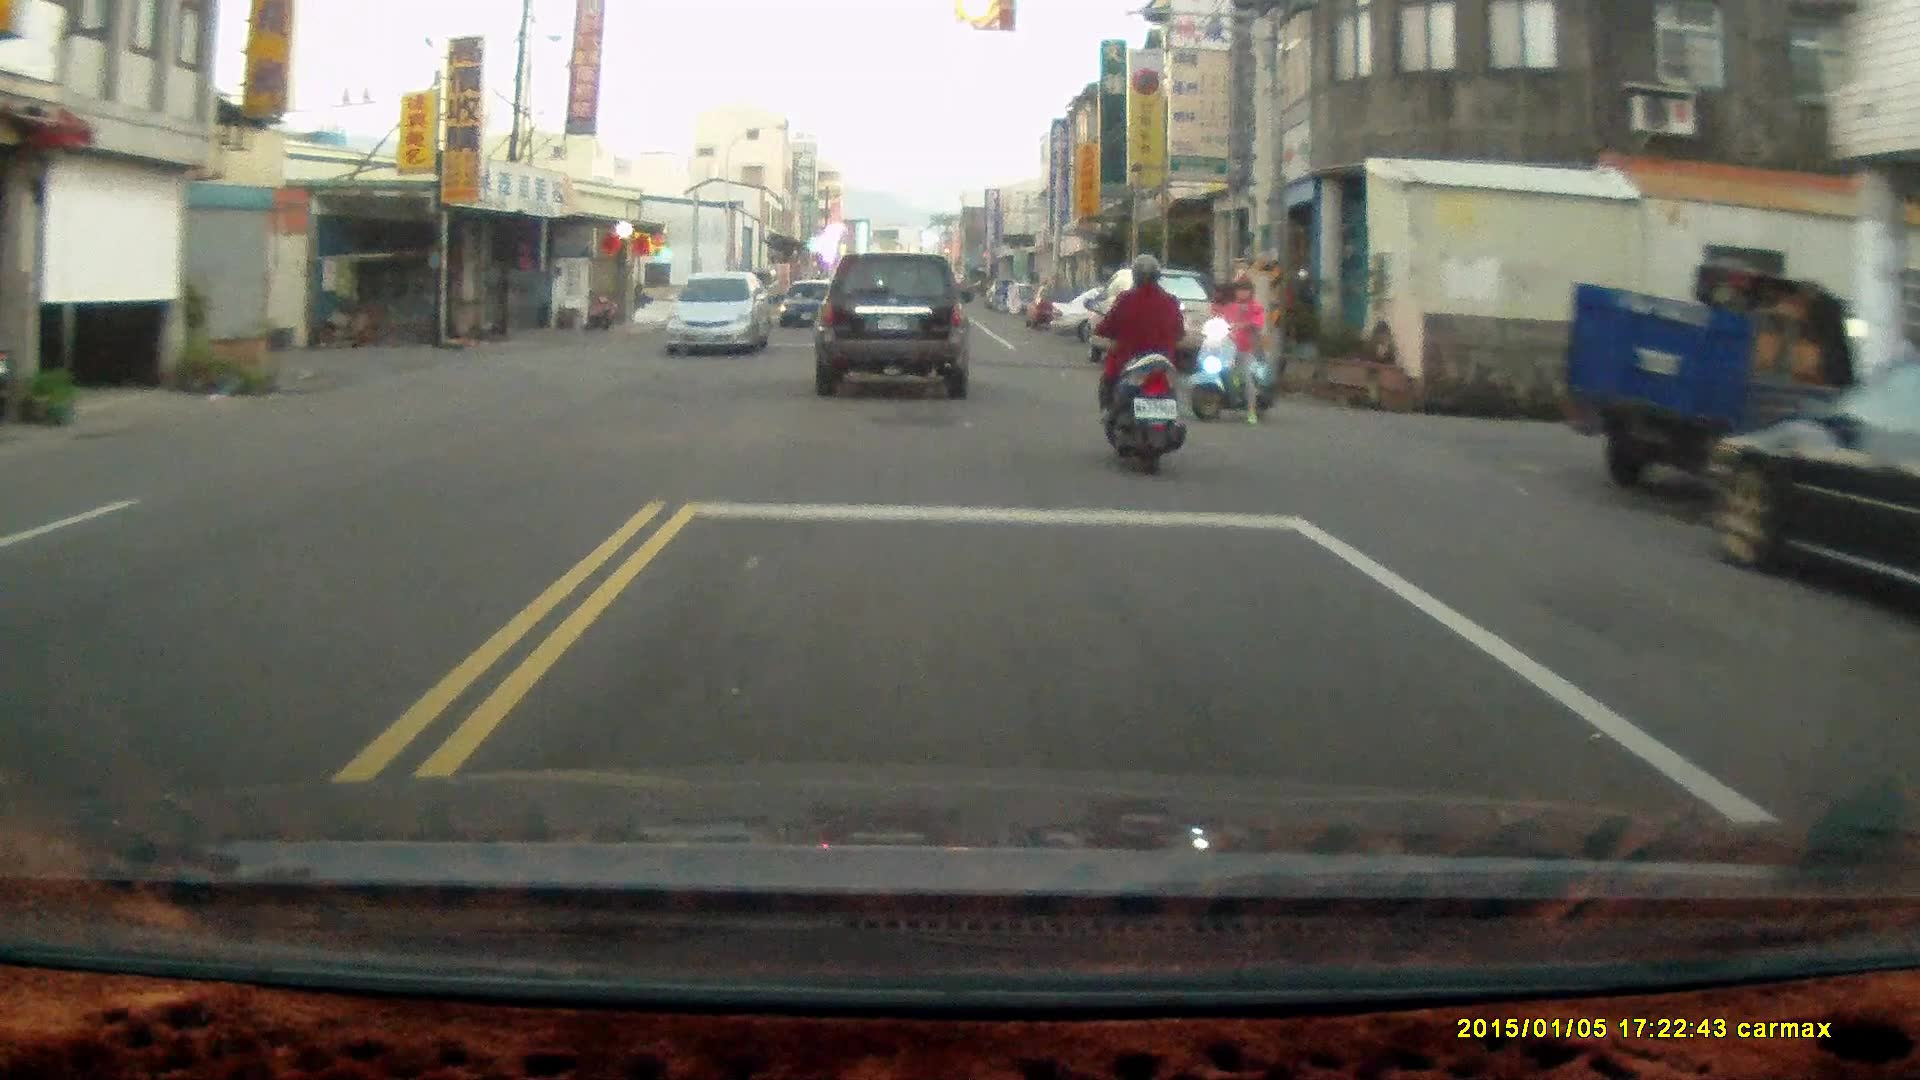rider: (1098, 252, 1184, 483), (1191, 268, 1277, 427)
vehicle: (1557, 255, 1874, 506), (1704, 354, 1920, 621), (813, 251, 979, 403), (1092, 267, 1226, 370), (661, 270, 777, 355)
